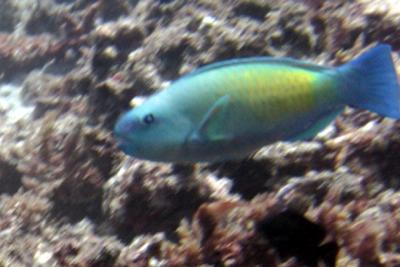Scaridae -Parrotfishes-: (111, 41, 400, 164)
